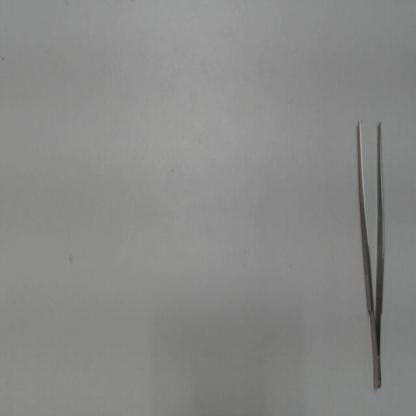Gillies Toothed Dissector: (351, 100, 387, 388)
